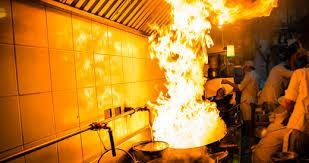fire: (142, 0, 231, 148)
